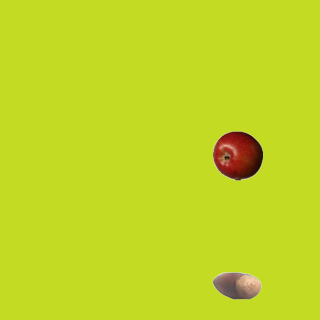Apple Braeburn: (212, 130, 262, 180)
Hazelnut: (211, 260, 261, 310)
